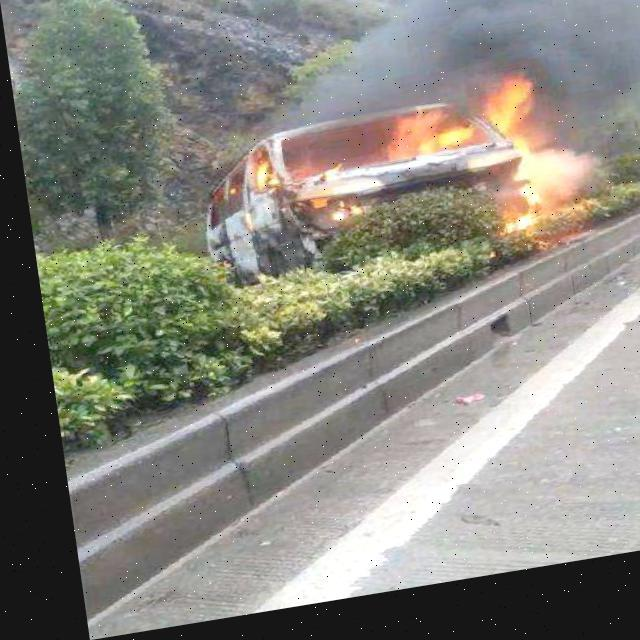Fire: (250, 81, 591, 288)
